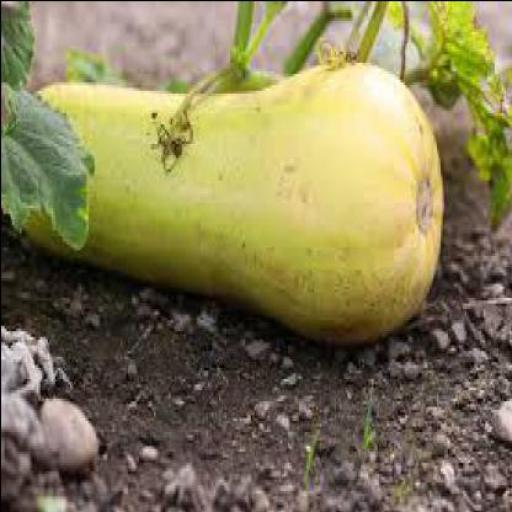biodegradable: (24, 53, 447, 345)
